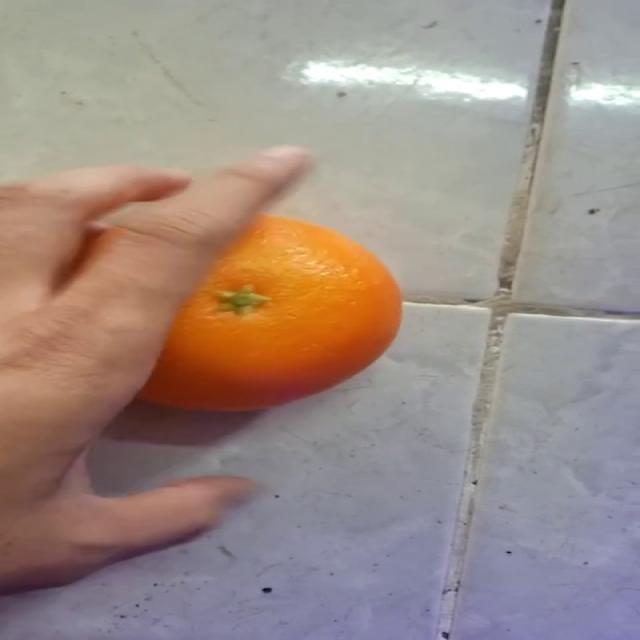Orange: (134, 210, 403, 413)
